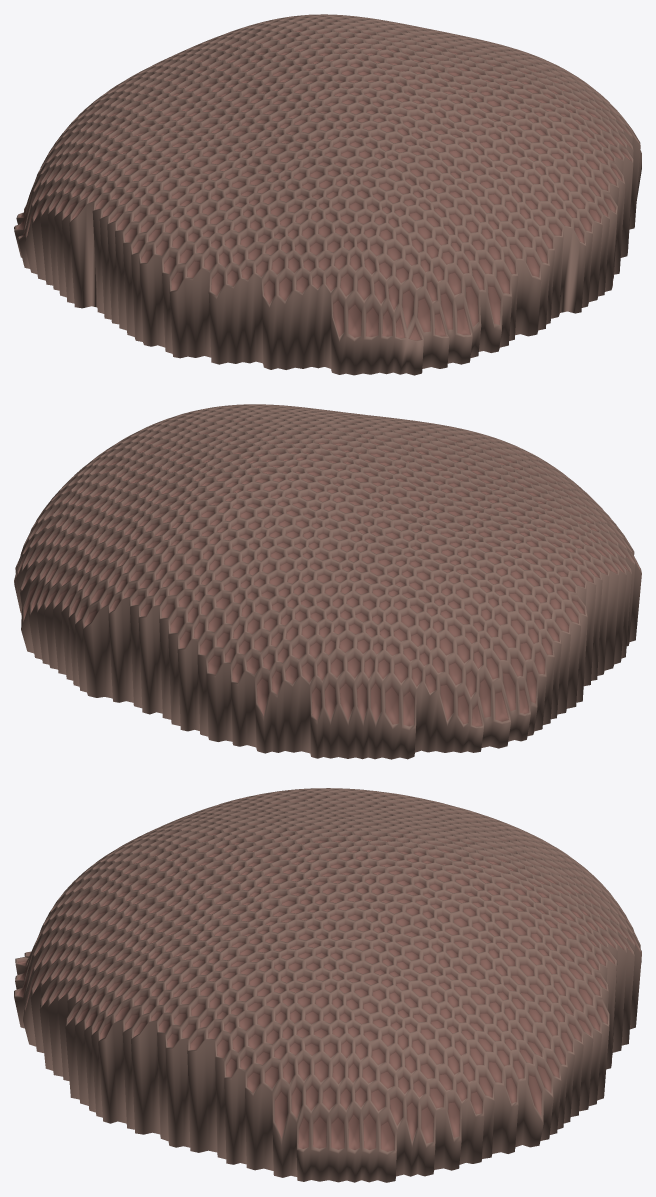
Rendered from massive-tabulate-coral-v2.glb.
3 views of the same model, one above another, from view 1: azimuth 30°, elevation 25°; view 2: azimuth 150°, elevation 25°; view 3: azimuth 270°, elevation 25° (orthographic). The views are drawn at different scales.
Visible parts, largest first — view 1: massive-tabulate-coral-v2; view 2: massive-tabulate-coral-v2; view 3: massive-tabulate-coral-v2.
Boxes of the visible parts, bbox=[...] form: massive-tabulate-coral-v2: bbox=[14, 14, 641, 375]; massive-tabulate-coral-v2: bbox=[14, 404, 641, 759]; massive-tabulate-coral-v2: bbox=[14, 788, 641, 1182].
Size of the model in its own units: 0.2849 by 0.0928 by 0.264.
